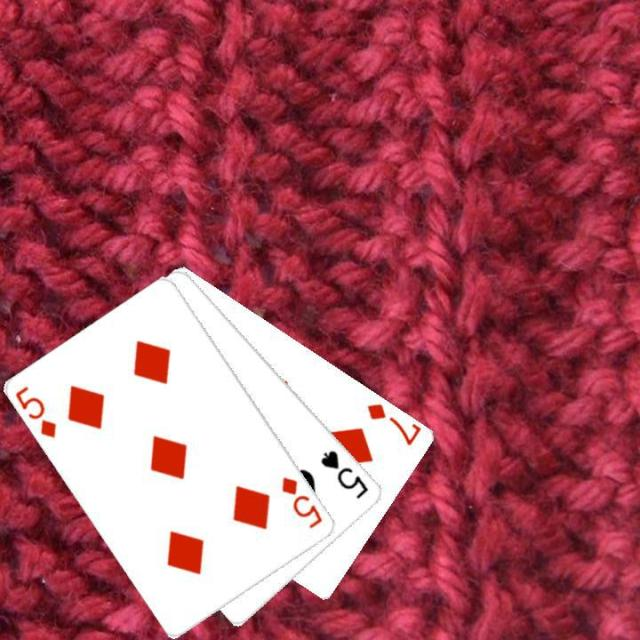5D: (278, 473, 326, 531), (12, 382, 59, 441)
5S: (317, 446, 371, 500)
7D: (364, 399, 422, 448)
